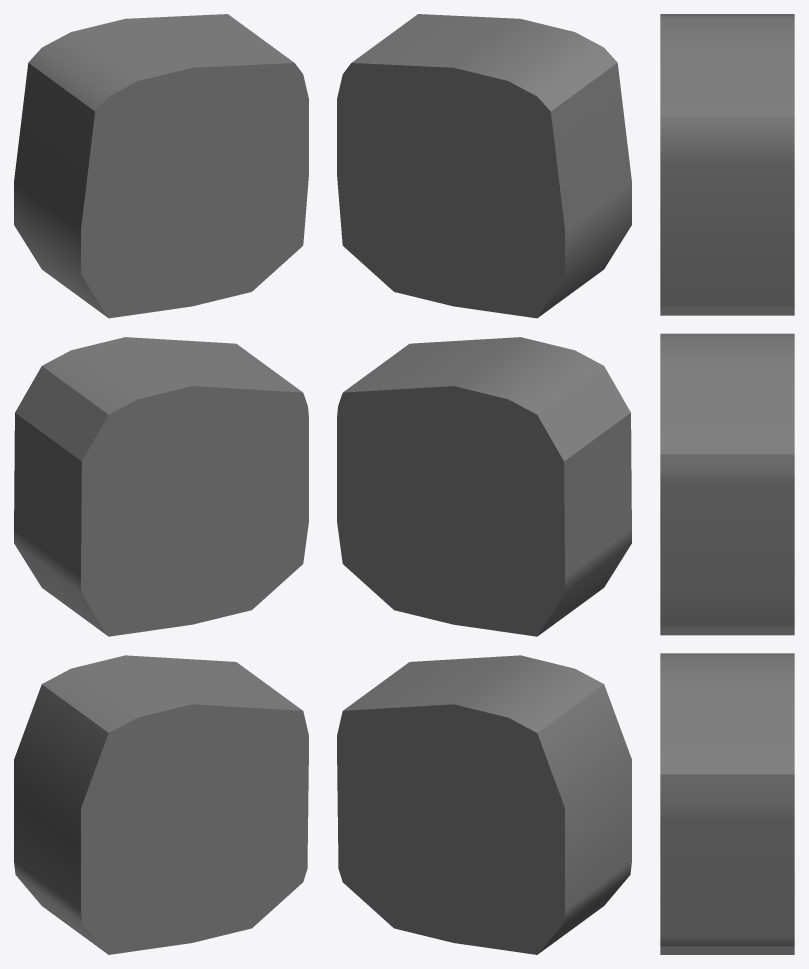
Rendered from fa-ellipsis-v.obj.
3 renders of one model, left to right at view 1: azimuth 30°, elevation 25°; view 2: azimuth 150°, elevation 25°; view 3: azimuth 270°, elevation 25°, orthographic.
Bounding box in the file's own units: 0.2268 × 0.8314 × 0.1152.
1 material, 1 textured.
